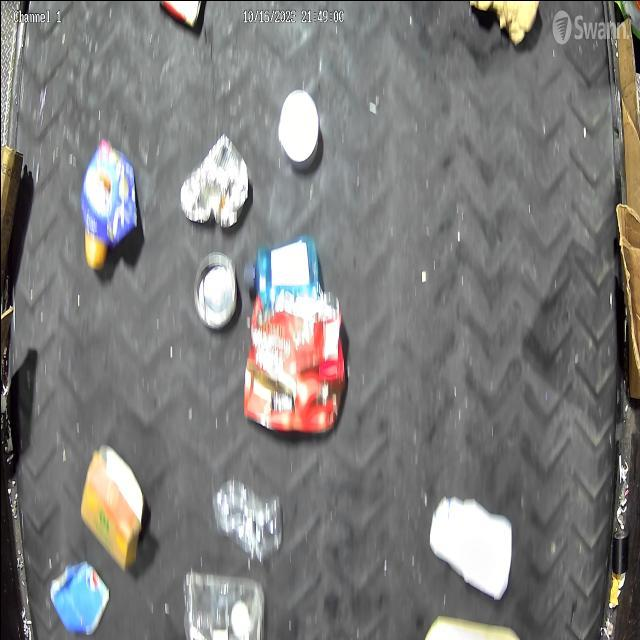can: (179, 132, 249, 228), (193, 251, 237, 329)
non_white_jug: (80, 138, 138, 270)
plastic_bottle: (212, 476, 284, 558)
